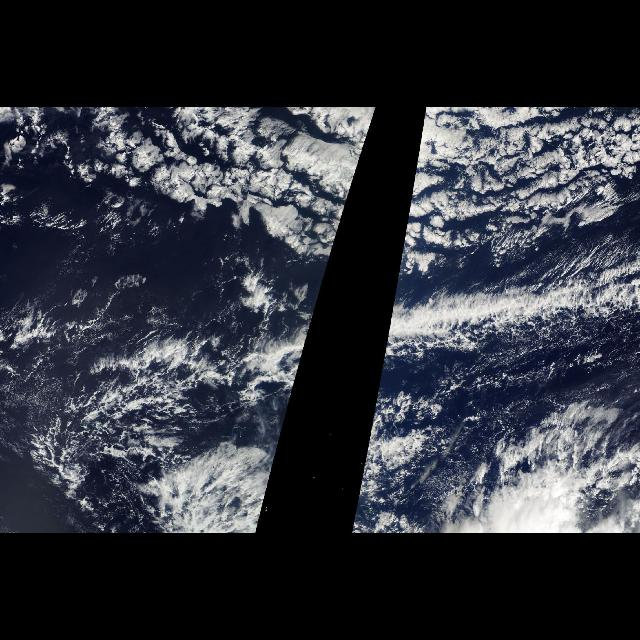Fish: (64, 248, 334, 426), (370, 248, 640, 426)
Gravel: (457, 327, 638, 405)
Sugar: (1, 360, 72, 438)
